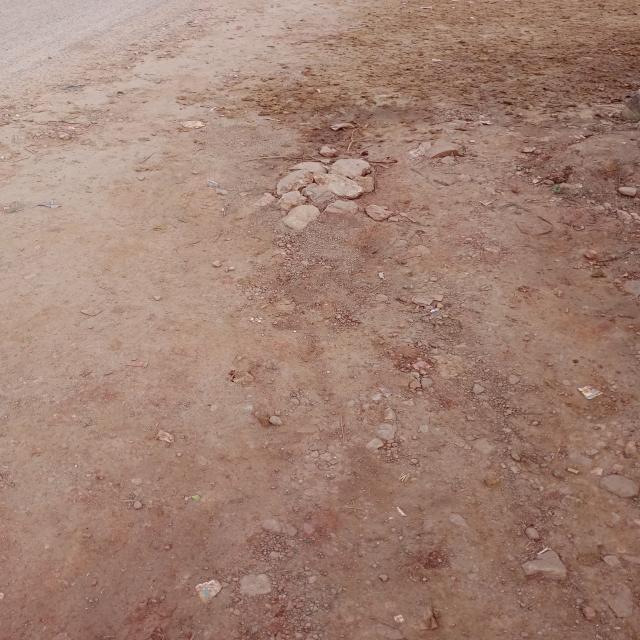potholes: (163, 112, 490, 396)
